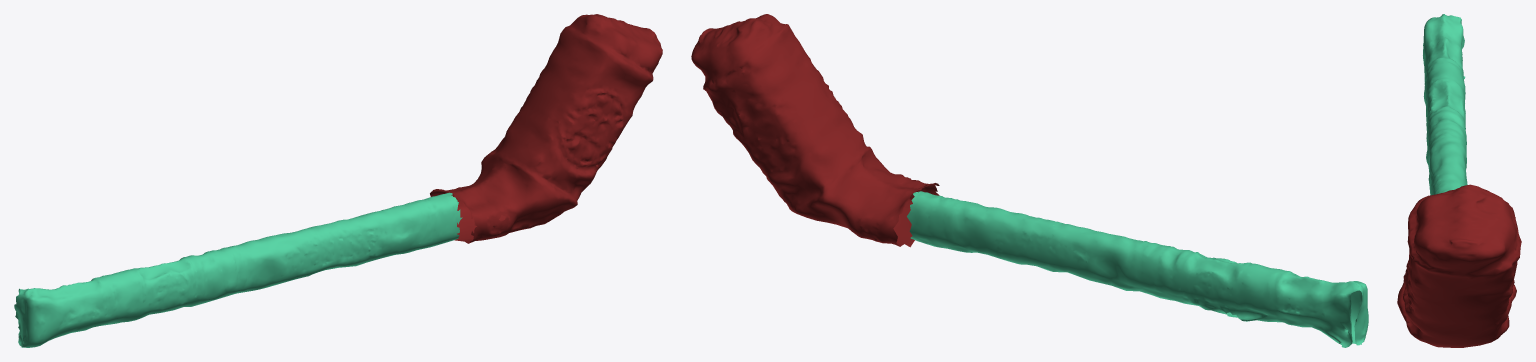
The model's file is object_deformed_8.obj.
3 views of the same model, side by side, from view 1: azimuth 30°, elevation 25°; view 2: azimuth 150°, elevation 25°; view 3: azimuth 270°, elevation 25° (orthographic). The views are drawn at different scales.
Size of the model in its own units: 0.6064 by 0.1656 by 0.0935.
